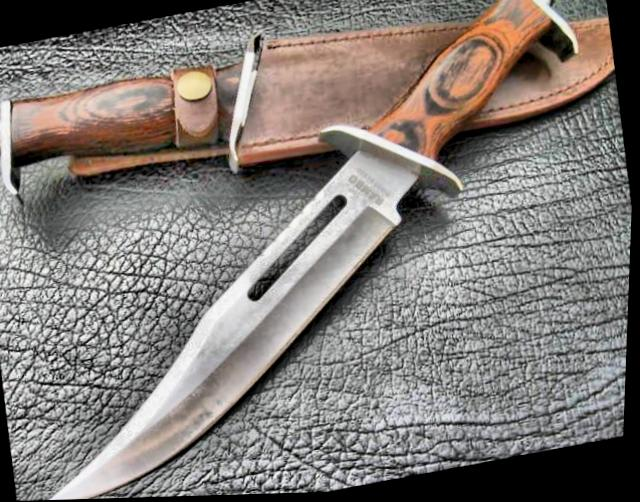knife: (0, 84, 526, 502)
